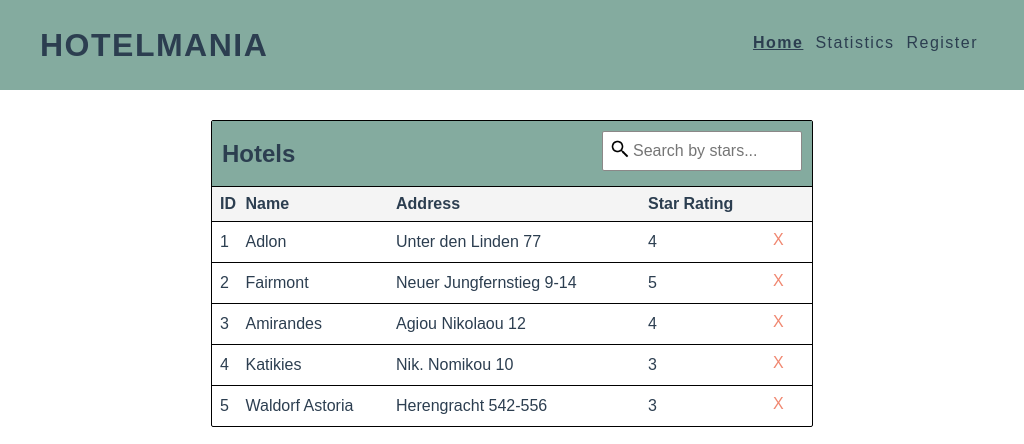
Test: Test Hotels Table › Test if filter by star is working
The image size is (1024, 444).
Expected: the number of rows is 6, [212,186,812,222]; [212,222,812,262]; [212,262,812,304]; [212,304,812,344]; [212,344,812,386]; [212,386,812,426]
Type "3" into the field with placeholder "Search by stars..." at (702, 151), box [602,131,802,171]
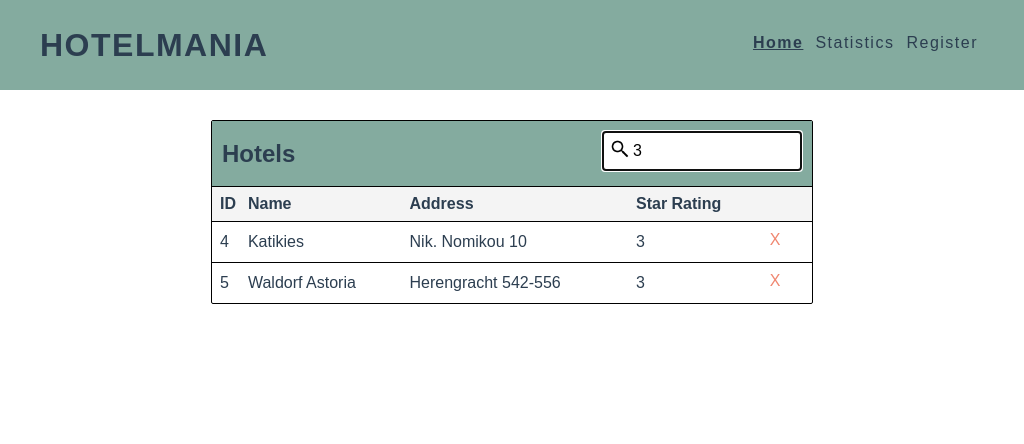
Expected: the number of rows is 3, [212,186,812,222]; [212,222,812,262]; [212,262,812,303]
Clear the field at (702, 151), box [602,131,802,171]
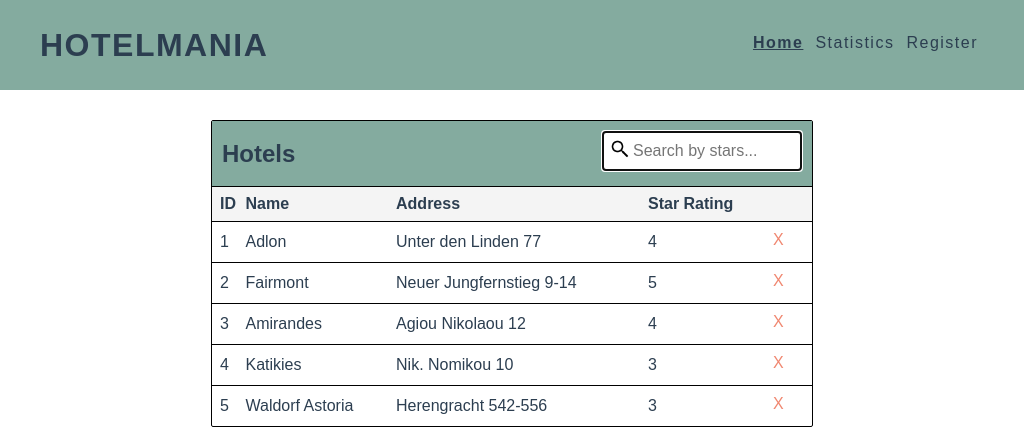
Expected: the number of rows is 6, [212,186,812,222]; [212,222,812,262]; [212,262,812,304]; [212,304,812,344]; [212,344,812,386]; [212,386,812,426]
